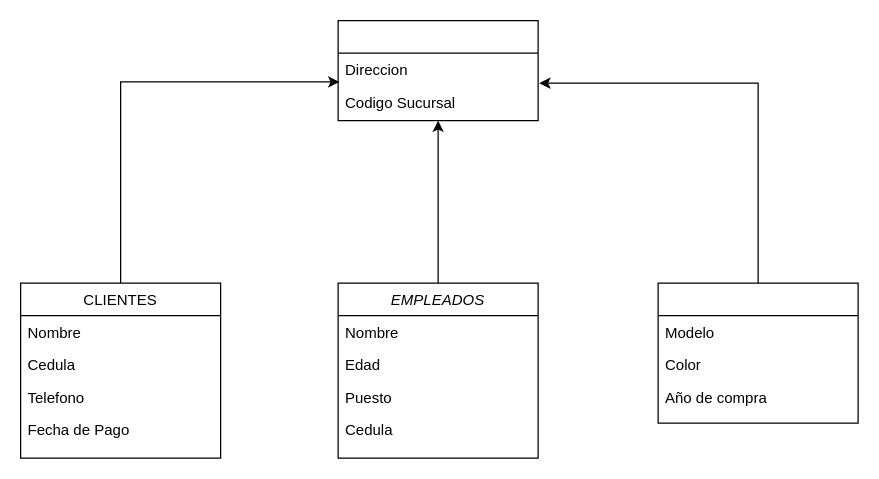
Image size: 879x479. Some labels were removed from this diagram. Here are the shapes that lost their labels. From the top down, the box of each, then its label:
(337, 19, 538, 121): CONSTRUCTORA
(657, 282, 858, 423): MAQUINARIA
